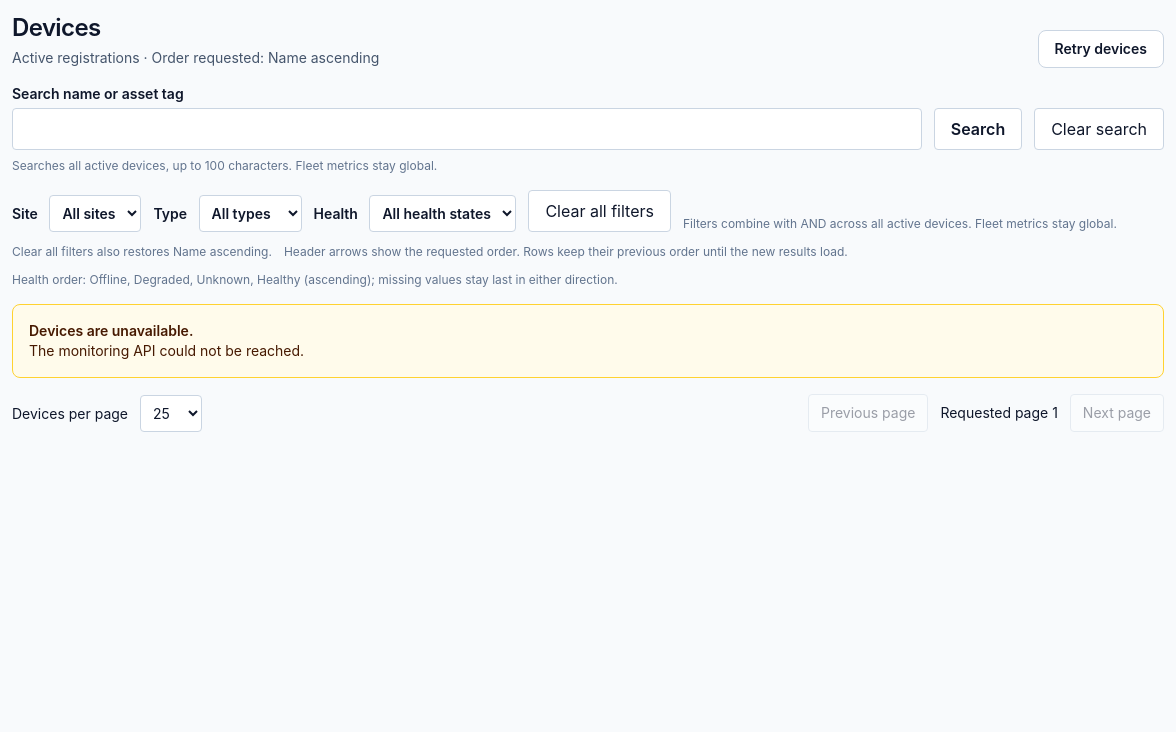
Scenario: has a separate initial error state and retry does not silently count the fleet as empty
expect the message "Devices are unavailable. The monitoring API could not be reached." is shown: met, box [12,304,1164,378]
Click the button "Retry devices".
click(1101, 49)  # box [1038,30,1164,68]
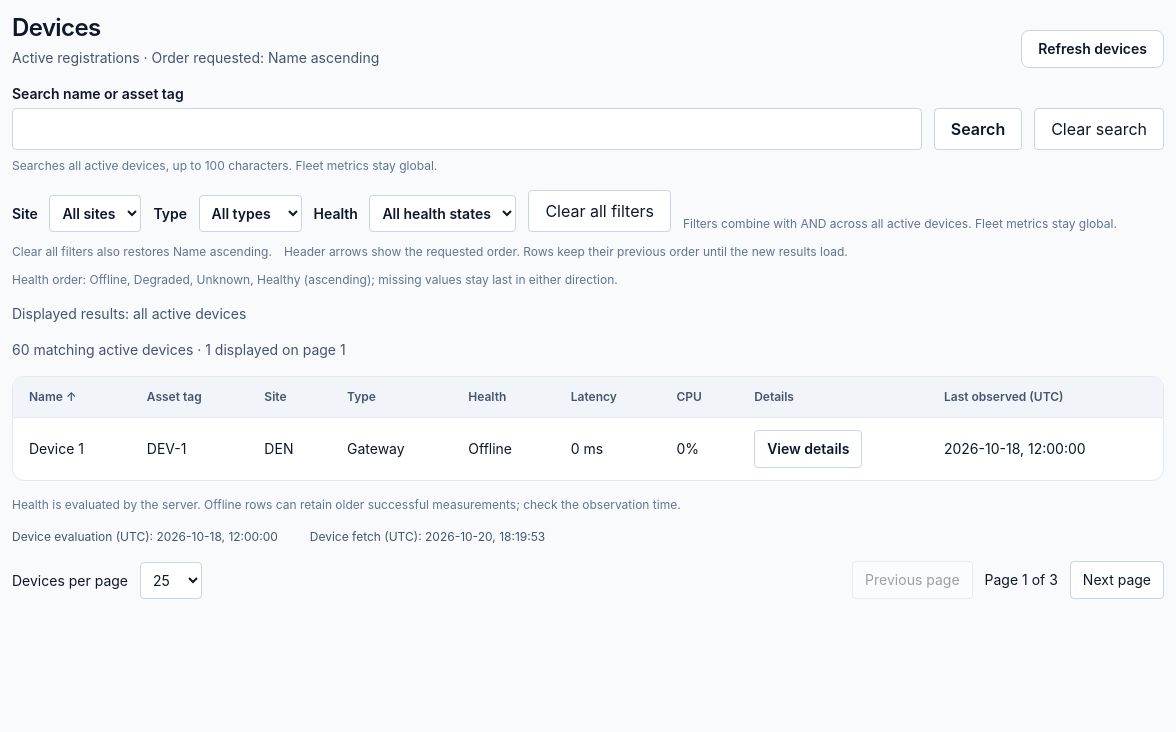
expect the text "Device 1" is shown: met, box [13,418,131,480]
